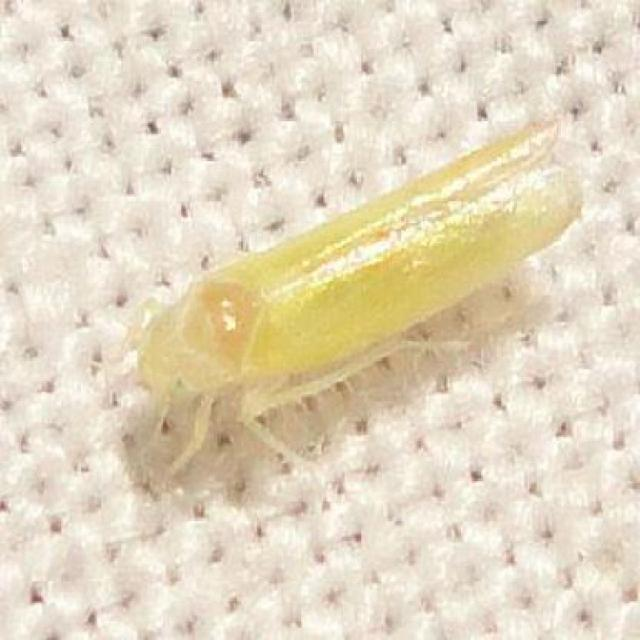green-leafhopper: (144, 125, 570, 472)
